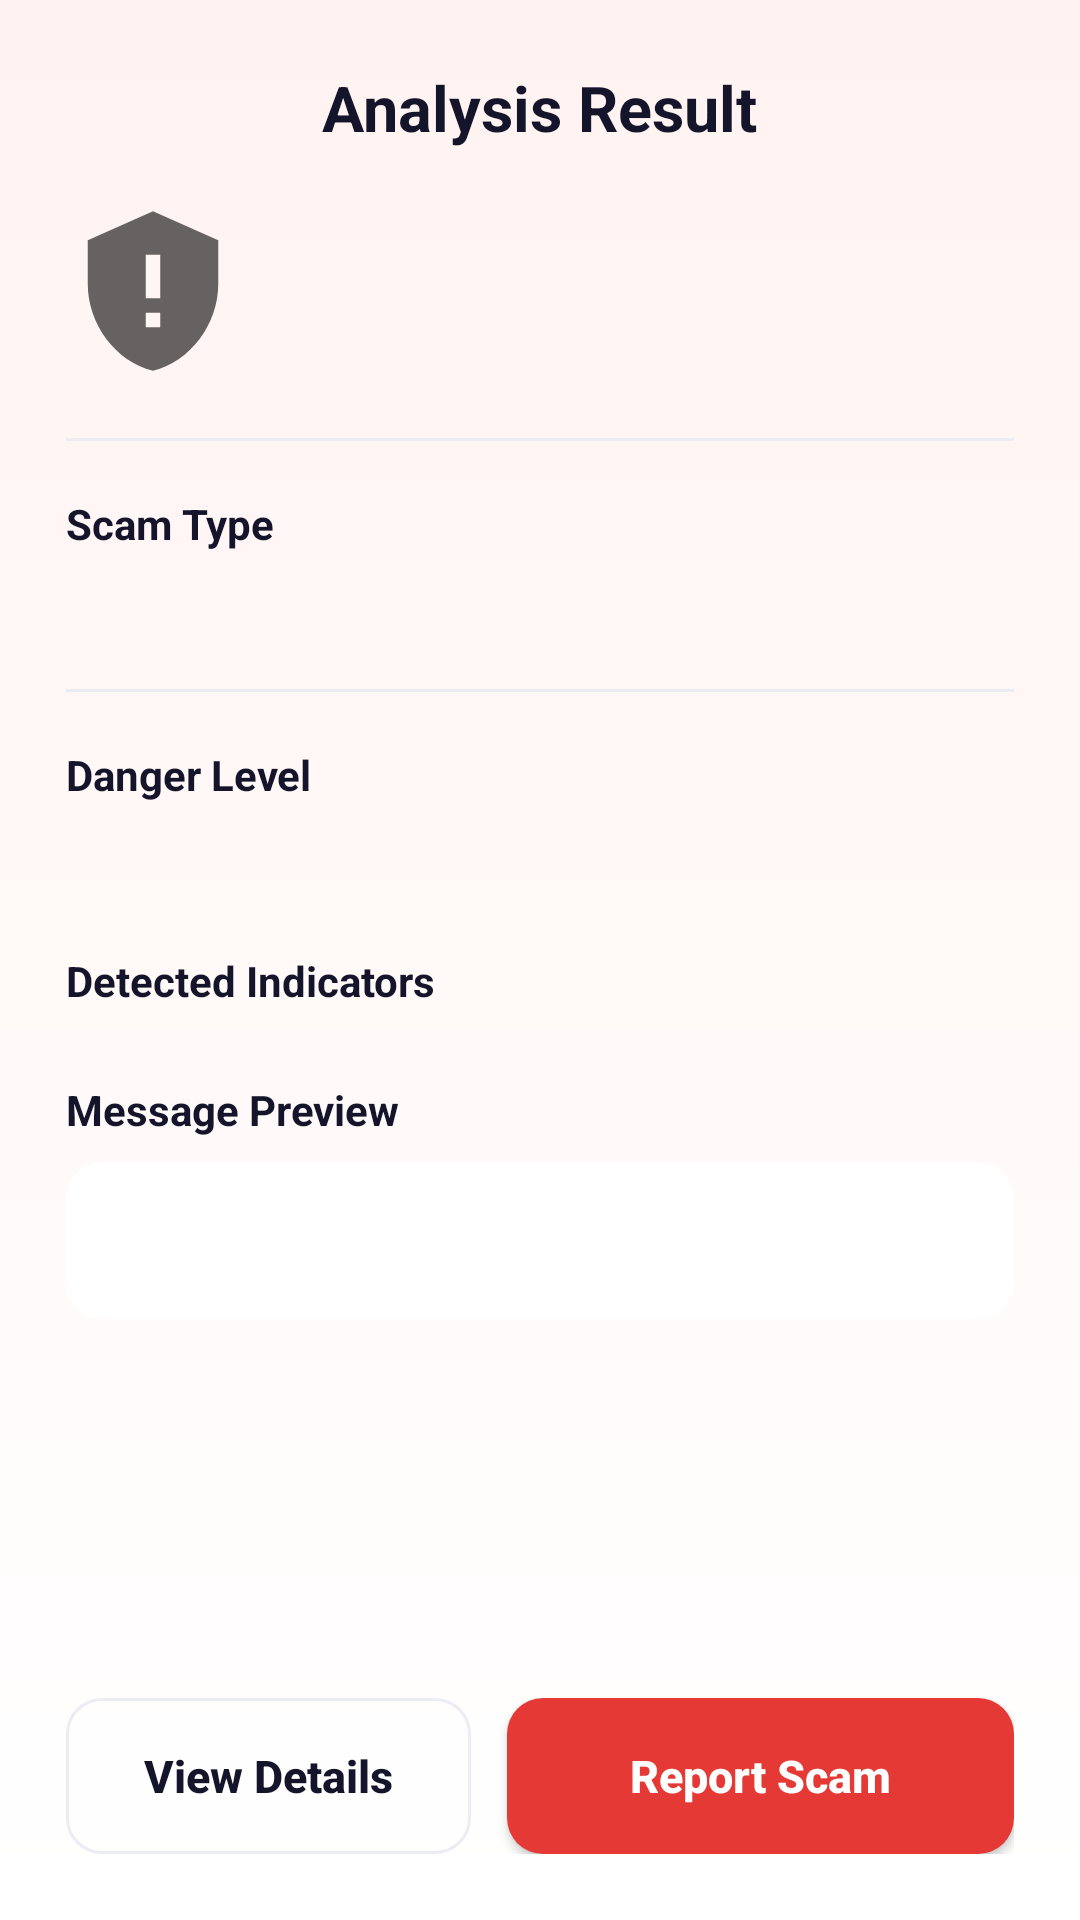

Screen size 1080x1920. Icon name, then its box in pixels as {"left": x1, "top": y1, "right": x2, "bottom": y2}:
shield alert: {"left": 87, "top": 211, "right": 219, "bottom": 371}
